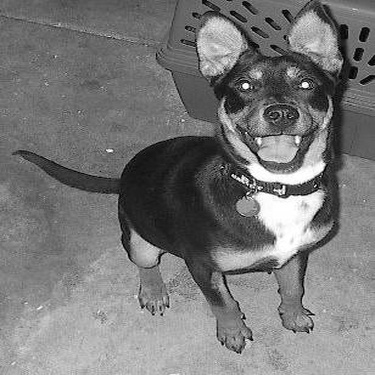dog: (3, 1, 359, 357)
